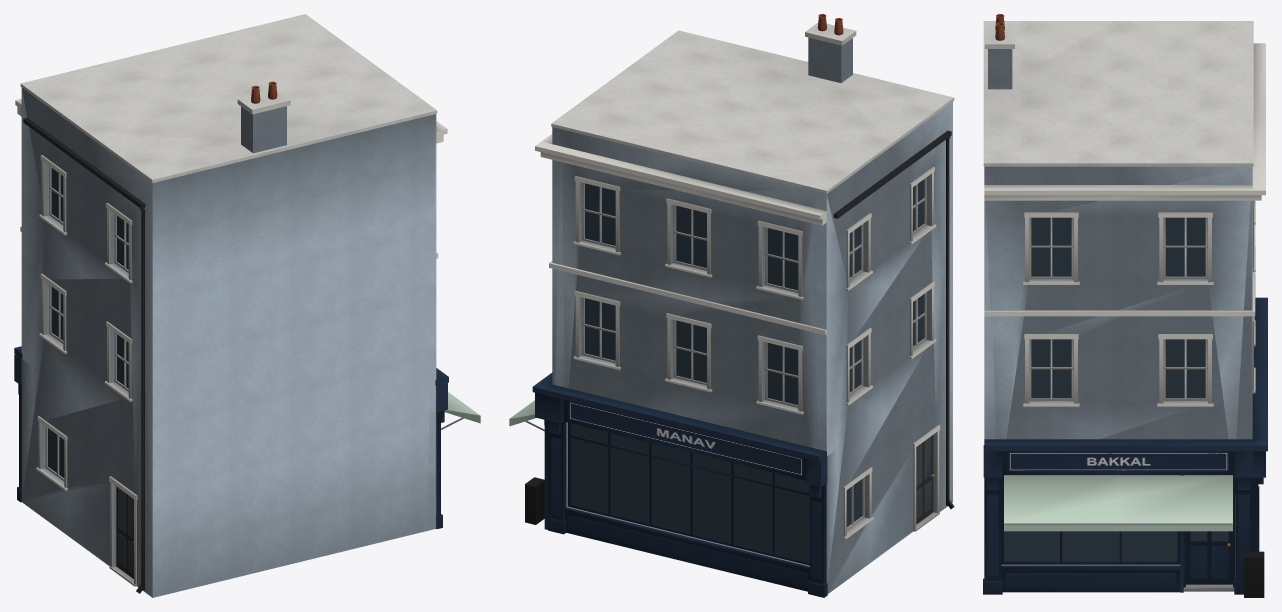
File: corner-shop_lod0.glb
3 renders of one model, left to right at view 1: azimuth 30°, elevation 25°; view 2: azimuth 150°, elevation 25°; view 3: azimuth 270°, elevation 25°, orthographic. The views are drawn at different scales.
Visible parts, largest first — view 1: corner-shop; view 2: corner-shop; view 3: corner-shop.
Part boxes in pixels (x1,y1,x2,y2): corner-shop: (14, 14, 480, 597); corner-shop: (509, 14, 954, 597); corner-shop: (983, 14, 1267, 597).
Size of the model in its own units: 9.15 by 12.08 by 6.37.
8 materials, 6 textured.
